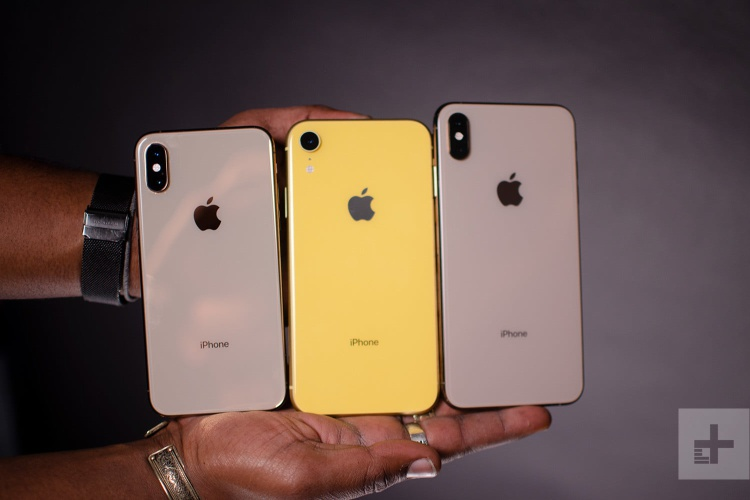apple: (489, 169, 535, 223), (185, 194, 245, 235), (341, 184, 380, 225)
